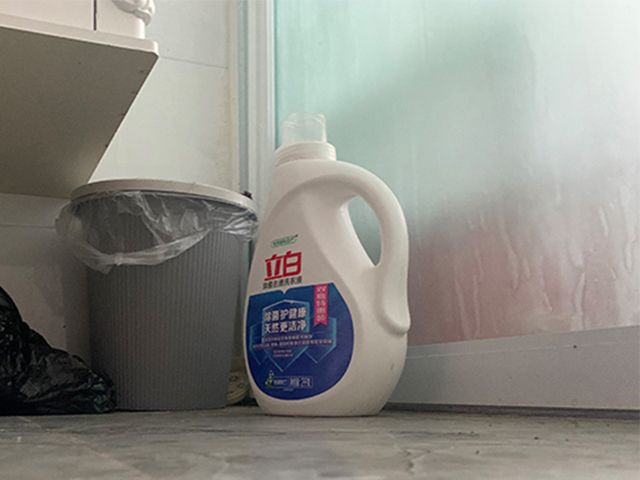trashcan: (71, 178, 257, 413)
